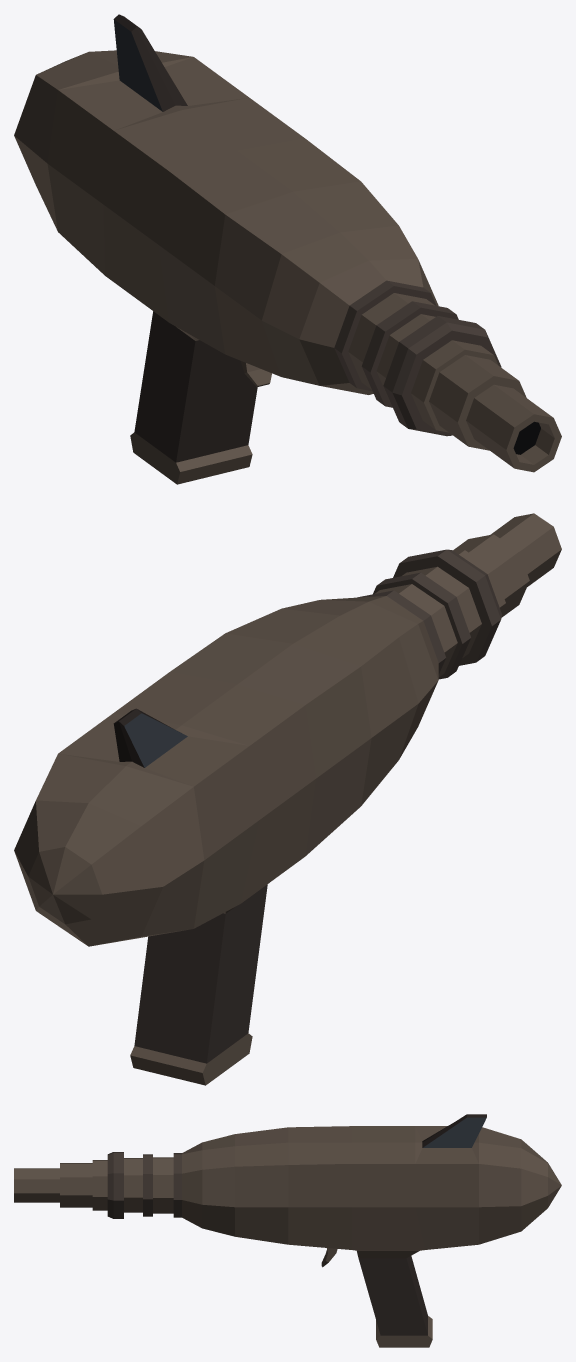
The model's file is blaster.glb.
The picture shows the model from 3 angles, top to bottom: view 1: azimuth 30°, elevation 25°; view 2: azimuth 150°, elevation 25°; view 3: azimuth 270°, elevation 25°; orthographic projection. The views are drawn at different scales.
Visible parts, largest first — view 1: Cube; view 2: Cube; view 3: Cube.
Boxes of the visible parts, x1,y1,x2,y2 form: Cube: [14, 14, 561, 484]; Cube: [14, 513, 561, 1085]; Cube: [14, 1114, 561, 1347].
Bounding box in the file's own units: 0.0791 × 0.1892 × 0.4205.
Materials: 1 (1 with a texture image).
